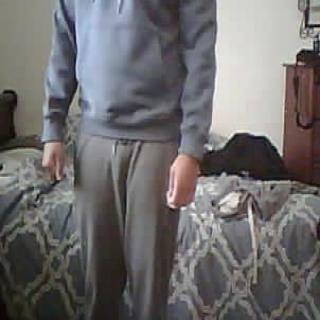Blue Hoodie: (46, 0, 222, 136)
Gray Sweatpants: (71, 136, 179, 320)
